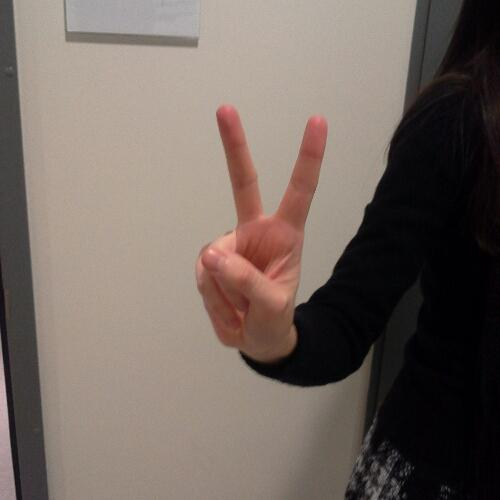scissors: (193, 100, 331, 362)
